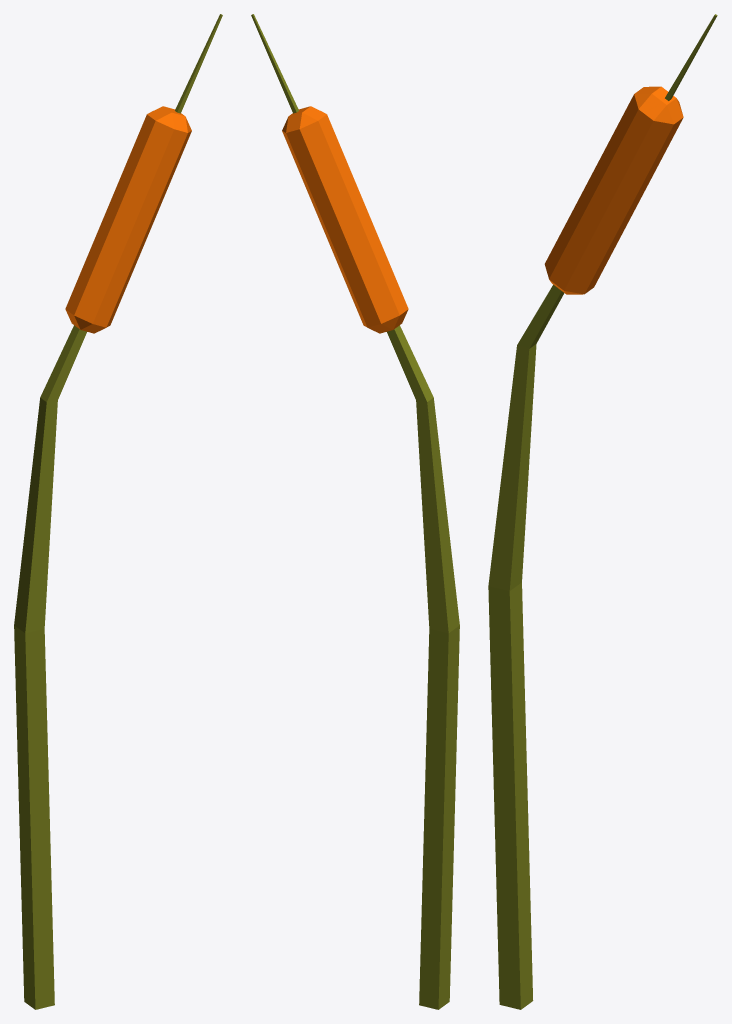
Rendered from Foliage_03.fbx.
3 views of the same model, side by side, from view 1: azimuth 30°, elevation 25°; view 2: azimuth 150°, elevation 25°; view 3: azimuth 330°, elevation 25° (orthographic). The views are drawn at different scales.
Visible parts, largest first — view 1: Foliage_03; view 2: Foliage_03; view 3: Foliage_03.
Part boxes in pixels (x1,y1,x2,y2): Foliage_03: [14, 14, 222, 1009]; Foliage_03: [251, 14, 459, 1009]; Foliage_03: [488, 14, 717, 1009].
Size of the model in its own units: 29.28 by 130 by 5.86.
